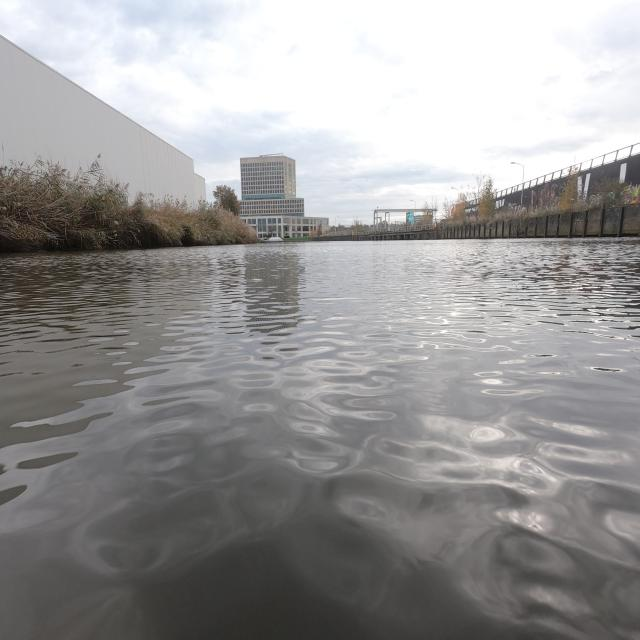reed: (6, 160, 256, 248)
sky: (0, 2, 638, 222)
wall: (406, 208, 636, 236)
water: (0, 236, 640, 640)
